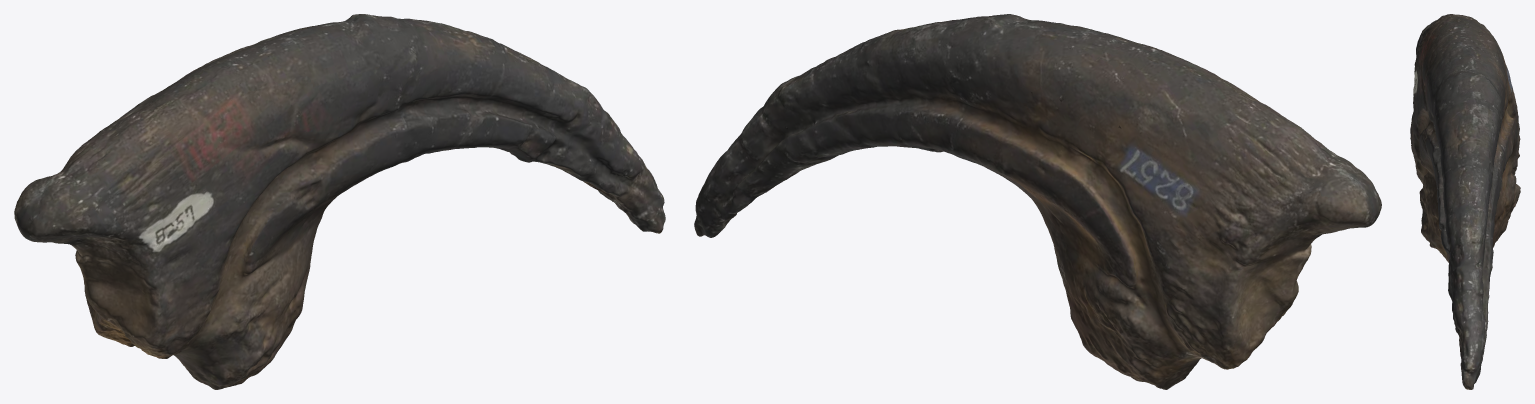
3 views of the same model, side by side, from view 1: azimuth 30°, elevation 25°; view 2: azimuth 150°, elevation 25°; view 3: azimuth 270°, elevation 25° (orthographic). The views are drawn at different scales.
Parts seen in each view (by area): view 1: Allosaurus_fragilis_Marsh__1877-unwrapped-webmulti; view 2: Allosaurus_fragilis_Marsh__1877-unwrapped-webmulti; view 3: Allosaurus_fragilis_Marsh__1877-unwrapped-webmulti.
Boxes of the visible parts, x1,y1,x2,y2 form: Allosaurus_fragilis_Marsh__1877-unwrapped-webmulti: [14, 14, 665, 389]; Allosaurus_fragilis_Marsh__1877-unwrapped-webmulti: [694, 14, 1381, 389]; Allosaurus_fragilis_Marsh__1877-unwrapped-webmulti: [1410, 14, 1520, 389].
Size of the model in its own units: 4915 by 2356 by 975.
1 material, 1 textured.
